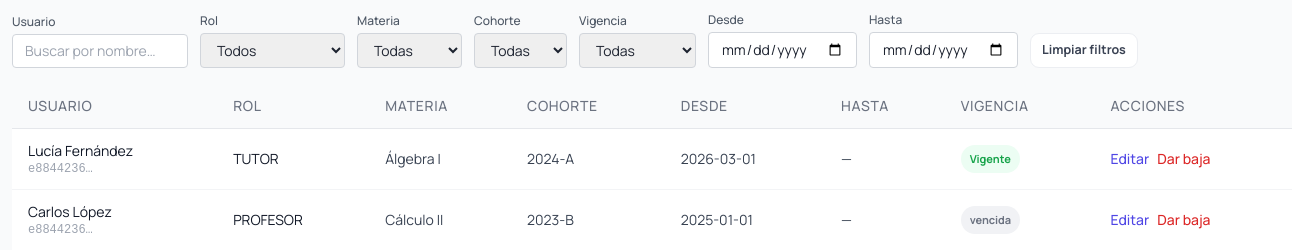
Test case: AsignacionesTable — client-side filtering › 10. Rol filter — exact match hides non-matching rows
The width and height of the screenshot is (1292, 250).
Step 1. Select "PROFESOR" in the dropdown with test id "filtro-rol" → point(272, 50), box top-left (200, 33), bottom-right (345, 68)
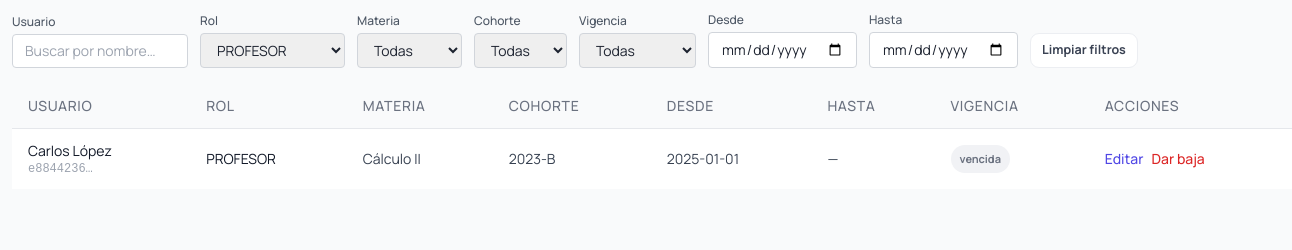
expect the text "Carlos López" is shown: met, box top-left (28, 141), bottom-right (112, 160)
expect the text "Lucía Fernández" is gone: met
